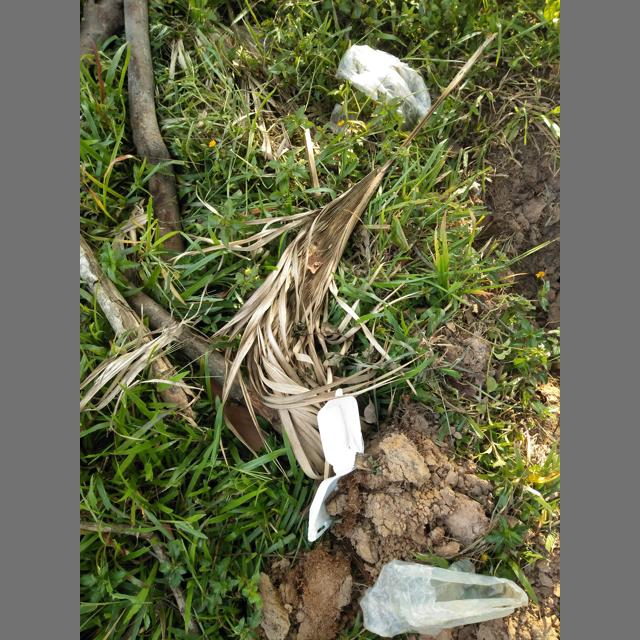litter: (359, 558, 528, 637), (307, 388, 364, 541), (335, 45, 431, 132), (328, 104, 357, 135)
